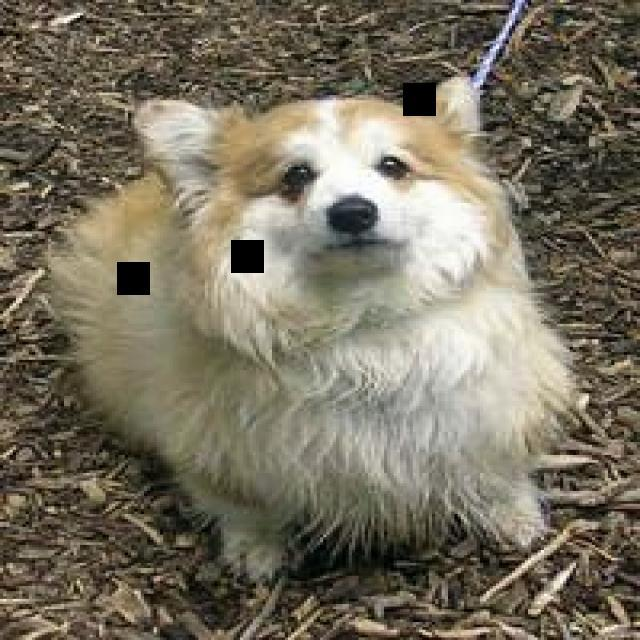adult_dog: (35, 74, 579, 593)
